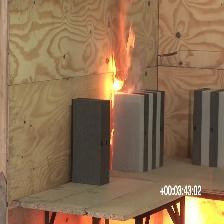fire: (99, 24, 136, 130)
